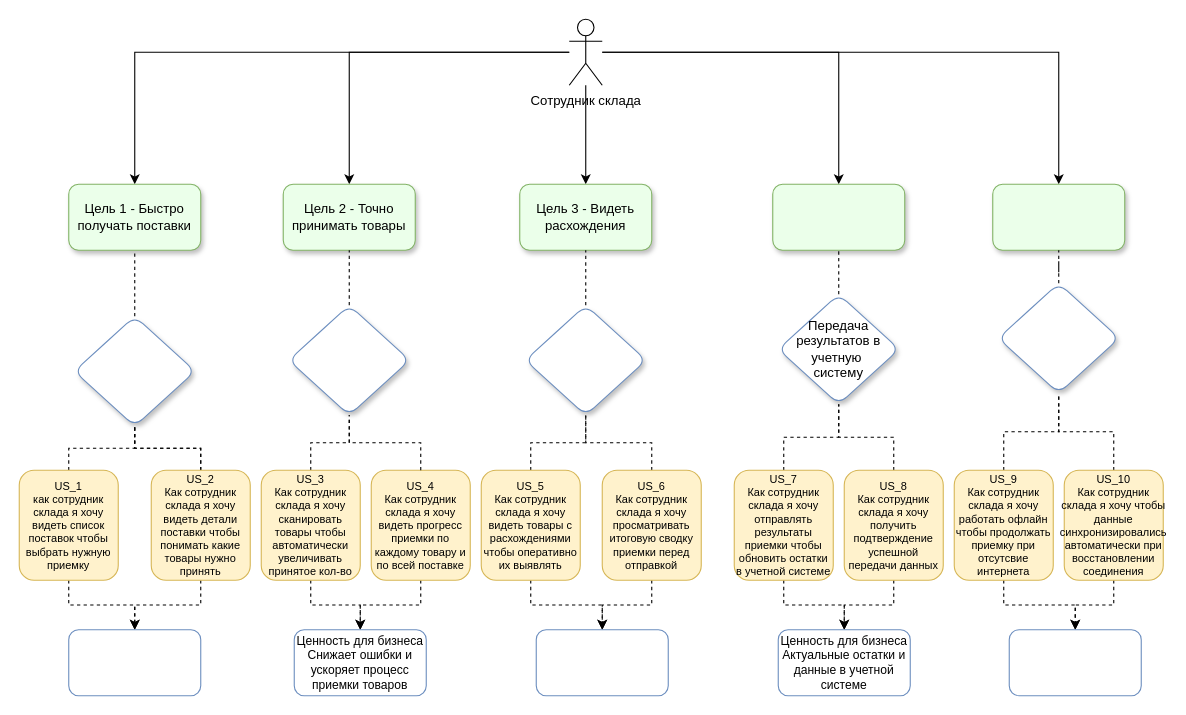
Image size: 1186x715. Some labels were removed from this diagram. The centre of each missing label's shape, as x and y in pixels:
"Контроль расхождений" goes at (x=586, y=361).
"Офлайн работа и синхронизация" goes at (x=1059, y=339).
"Приемка товаров (сканирование)" goes at (x=349, y=361).
"Управление поставками" goes at (x=135, y=372).
"Цель 4 - Передача результатов" goes at (x=839, y=218).
"Цель 4 - Работать даже без интернета" goes at (x=1059, y=218).
"Ценность для бизнеса Минимизация недостачи излишков" goes at (x=601, y=662).
"Ценность для бизнеса Непрерывность работы скалда без простоев" goes at (x=1074, y=662).
"Ценность для бизнеса Сокращение времени на поиск и выбор поставки" goes at (x=134, y=662).
